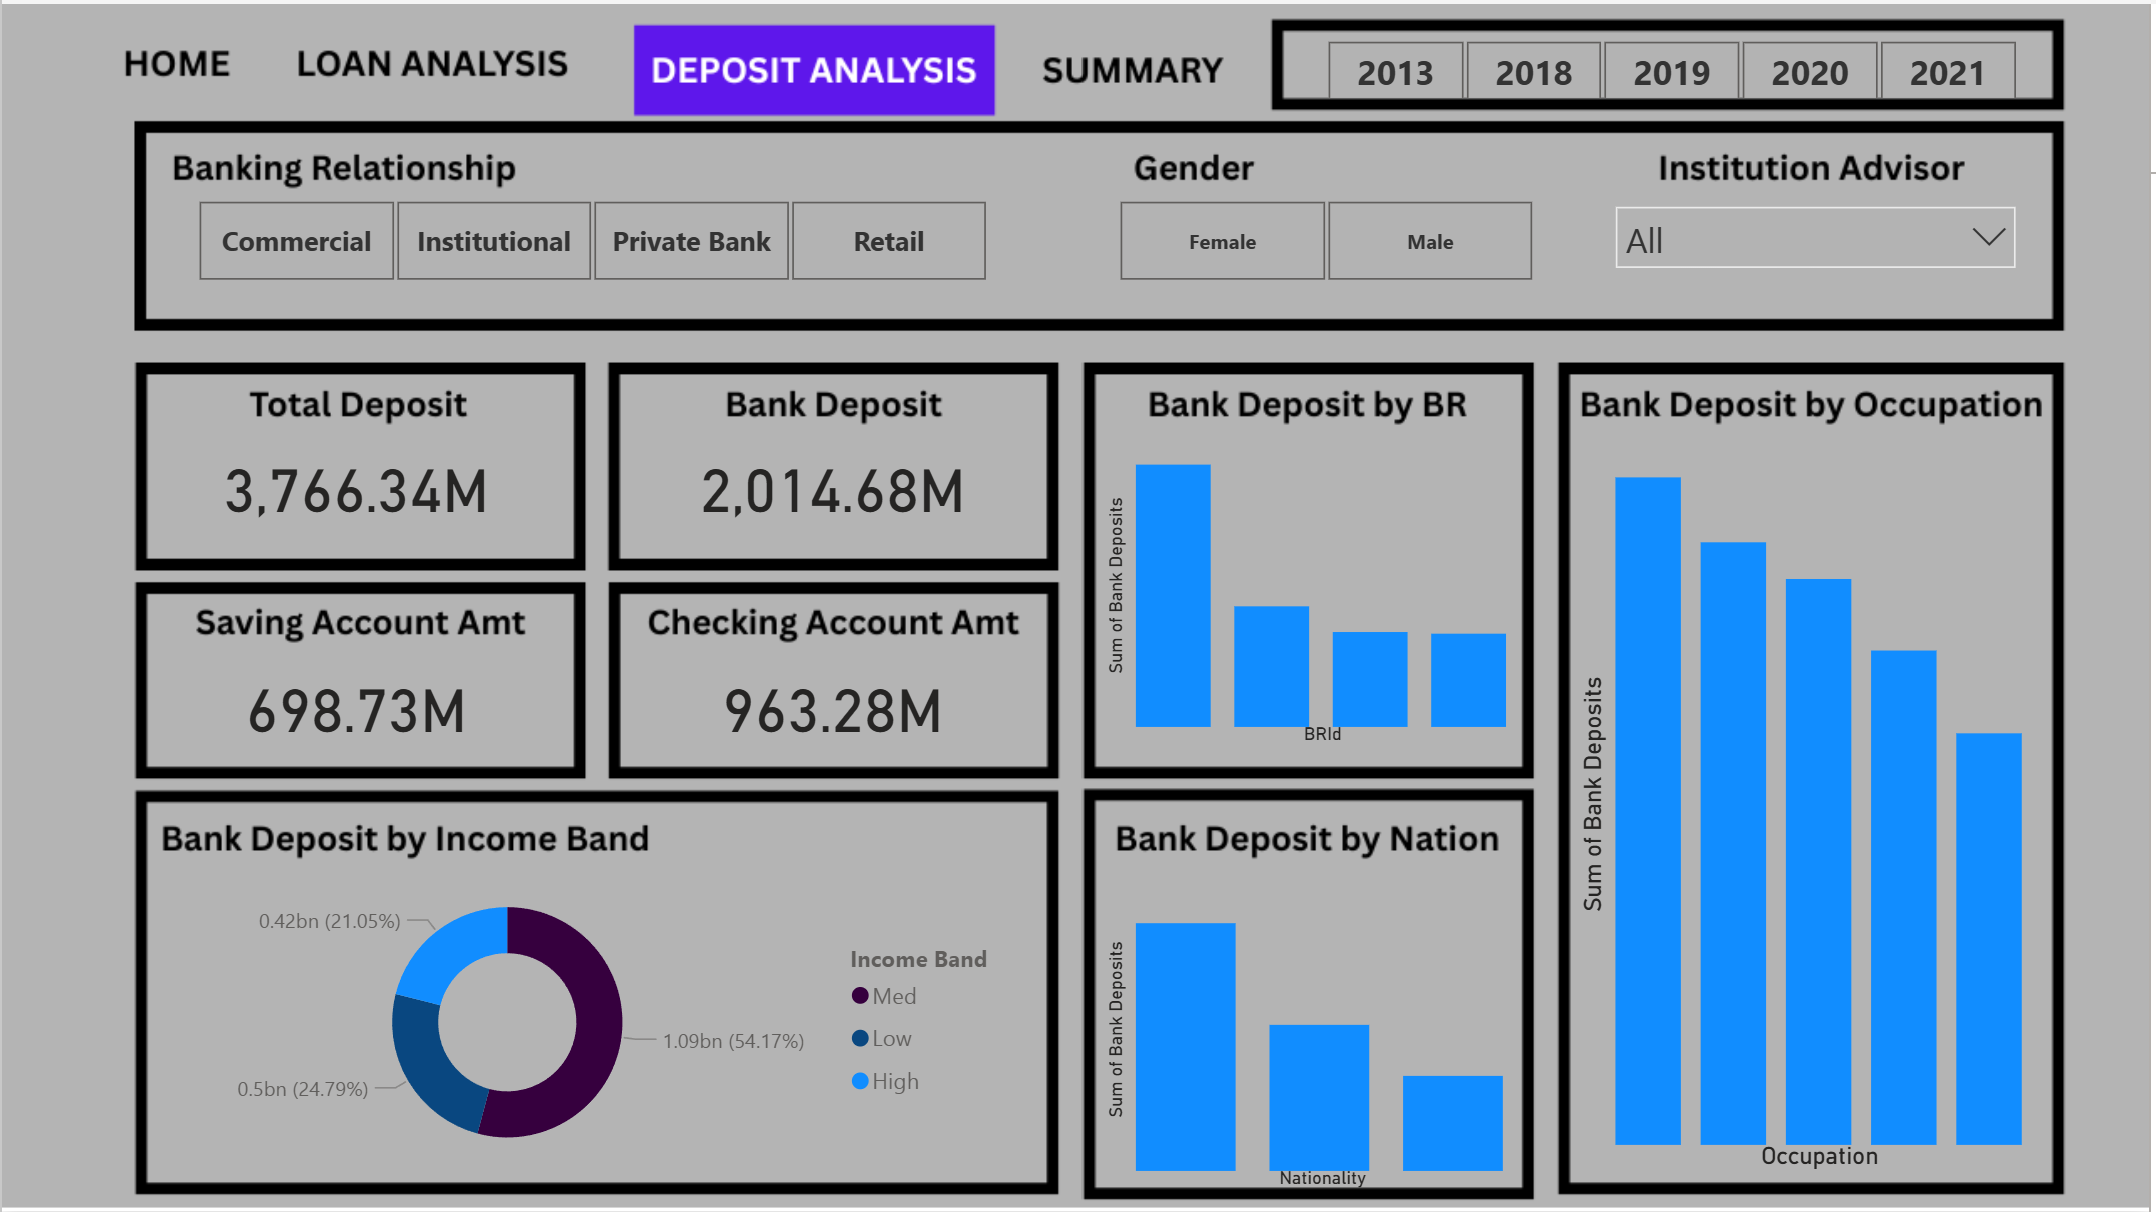

The page's visual inventory and layout, read from the dashboard file:
{"tool":"powerbi","page":{"name":"Deposit Analysis","canvas":[1280,720],"ordinal":2},"visuals":[{"type":"slicer","fields":{"Values":["banking_case customer.Year of Joining"]},"box":[764.8,15.9,459.8,40.5],"z":0},{"type":"actionButton","box":[57.8,7.2,95.4,56.4],"z":1000},{"type":"actionButton","box":[383.1,7.2,205.3,56.4],"z":2000},{"type":"actionButton","box":[611.6,7.2,125.8,56.4],"z":3000},{"type":"card","fields":{"Values":["banking_case customer.Total Deposit"]},"box":[105.5,248.7,212.5,78.1],"z":4000},{"type":"card","fields":{"Values":["Sum(banking_case customer.Bank Deposits)"]},"box":[394.7,248.7,201,78.1],"z":5000},{"type":"card","fields":{"Values":["Sum(banking_case customer.Saving Accounts)"]},"box":[105.5,378.8,212.5,78.1],"z":6000},{"type":"card","fields":{"Values":["Sum(banking_case customer.Checking Accounts)"]},"box":[394.7,378.8,201,78.1],"z":7000},{"type":"donutChart","fields":{"Category":["banking_case customer.Income Band"],"Y":["Sum(banking_case customer.Bank Deposits)"]},"box":[92.4,514,519.1,186.5],"z":8000},{"type":"clusteredColumnChart","fields":{"Y":["Sum(banking_case customer.Bank Deposits)"],"Category":["banking_case customer.BRId"]},"box":[653.5,248.7,250.1,198.1],"z":9000},{"type":"clusteredColumnChart","fields":{"Y":["Sum(banking_case customer.Bank Deposits)"],"Category":["banking_case customer.Nationality"]},"box":[653.5,513.3,250.1,198.1],"z":10000},{"type":"clusteredColumnChart","fields":{"Y":["Sum(banking_case customer.Bank Deposits)"],"Category":["banking_case customer.Occupation"]},"box":[935.6,248.6,275.5,451.9],"z":11000},{"type":"slicer","fields":{"Values":["banking_case customer.BRId"]},"box":[92.4,110.9,519.1,60.5],"z":12000},{"type":"slicer","fields":{"Values":["banking_case customer.GenderId"]},"box":[640,110.9,295.6,60.5],"z":13000},{"type":"slicer","fields":{"Values":["banking_case customer.IAId"]},"box":[952.4,110.9,258.7,60.5],"z":14000},{"type":"actionButton","box":[168,6.7,184.8,57.1],"z":14001}]}

Visuals, with their boxes in screenshot pixels (x1, y1, x2, y2), scaled from the page's 1280x720 canvas onto the 2156x1212 screenshot:
slicer - banking_case customer.Year of Joining: left=1288, top=27, right=2063, bottom=95
actionButton: left=97, top=12, right=258, bottom=107
actionButton: left=645, top=12, right=991, bottom=107
actionButton: left=1030, top=12, right=1242, bottom=107
card - banking_case customer.Total Deposit: left=178, top=419, right=536, bottom=550
card - Sum(banking_case customer.Bank Deposits): left=665, top=419, right=1003, bottom=550
card - Sum(banking_case customer.Saving Accounts): left=178, top=638, right=536, bottom=769
card - Sum(banking_case customer.Checking Accounts): left=665, top=638, right=1003, bottom=769
donutChart - banking_case customer.Income Band x Sum(banking_case customer.Bank Deposits): left=156, top=865, right=1030, bottom=1179
clusteredColumnChart - Sum(banking_case customer.Bank Deposits) x banking_case customer.BRId: left=1101, top=419, right=1522, bottom=752
clusteredColumnChart - Sum(banking_case customer.Bank Deposits) x banking_case customer.Nationality: left=1101, top=864, right=1522, bottom=1198
clusteredColumnChart - Sum(banking_case customer.Bank Deposits) x banking_case customer.Occupation: left=1576, top=418, right=2040, bottom=1179
slicer - banking_case customer.BRId: left=156, top=187, right=1030, bottom=289
slicer - banking_case customer.GenderId: left=1078, top=187, right=1576, bottom=289
slicer - banking_case customer.IAId: left=1604, top=187, right=2040, bottom=289
actionButton: left=283, top=11, right=594, bottom=107
